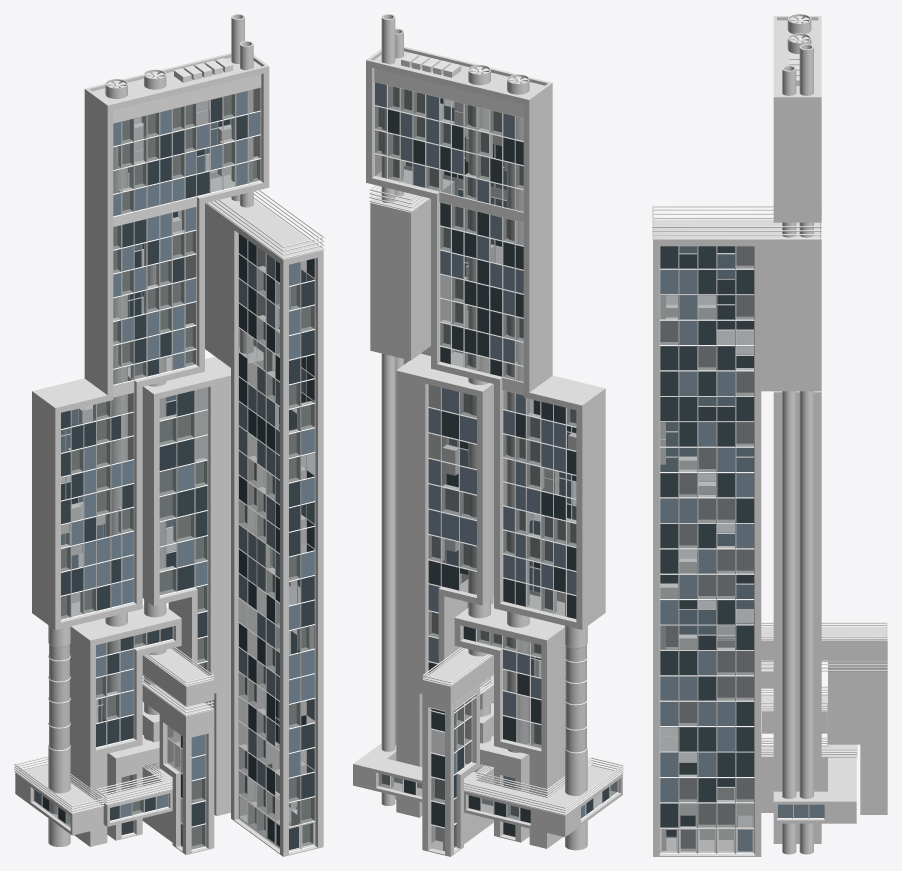
The model's file is building-6.glb.
3 renders of one model, left to right at view 1: azimuth 30°, elevation 25°; view 2: azimuth 150°, elevation 25°; view 3: azimuth 270°, elevation 25°, orthographic. The views are drawn at different scales.
Parts seen in each view (by area): view 1: Box02_01___Default_0_001_789, glass_glass_2_0_810, frame_Material__82838965_0_808, glass_glass_3_0_811, Object165_glass_88_0_822, glass_glass_0_812, Object196_wal_int_0_825, Object196_light_7698_0_824, Cylinder04_01___Default_0_001_799, Cylinder05_01___Default_0_801, Cylinder05_glass_0_802, Cylinder03_01___Default_0_001_797 (+7 smaller); view 2: Box02_01___Default_0_001_789, frame_Material__82838965_0_808, glass_glass_2_0_810, Object165_glass_88_0_822, glass_glass_3_0_811, glass_glass_0_812, Object196_wal_int_0_825, Cylinder02_01___Default_0_001_795, Object196_light_7698_0_824, Cylinder04_01___Default_0_001_799, Cylinder03_01___Default_0_001_797, Cylinder05_glass_0_802 (+7 smaller); view 3: Box02_01___Default_0_001_789, glass_glass_3_0_811, glass_glass_2_0_810, glass_glass_0_812, frame_Material__82838965_0_808, Object165_glass_88_0_822, Object196_light_7698_0_824, Cylinder02_01___Default_0_001_795, Cylinder01_01___Default_0_001_793, Object196_wal_int_0_825, Rectangle10_04___Default_0_001_845, Rectangle07_04___Default_0_001_839 (+2 smaller).
Boxes of the visible parts, x1,y1,x2,y2 form: Box02_01___Default_0_001_789: (15,53,323,856); glass_glass_2_0_810: (34,91,314,846); frame_Material__82838965_0_808: (33,74,315,852); glass_glass_3_0_811: (42,97,314,849); Object165_glass_88_0_822: (61,94,314,849); glass_glass_0_812: (50,88,314,826); Object196_wal_int_0_825: (61,94,314,849); Object196_light_7698_0_824: (61,95,310,845); Cylinder04_01___Default_0_001_799: (105,79,127,720); Cylinder05_01___Default_0_801: (48,625,70,846); Cylinder05_glass_0_802: (49,644,69,749); Cylinder03_01___Default_0_001_797: (144,69,166,769); Box02_01___Default_0_001_789: (353,46,622,856); frame_Material__82838965_0_808: (374,68,618,852); glass_glass_2_0_810: (375,82,585,818); Object165_glass_88_0_822: (375,85,617,847); glass_glass_3_0_811: (388,98,609,836); glass_glass_0_812: (375,98,600,850); Object196_wal_int_0_825: (375,85,617,850); Cylinder02_01___Default_0_001_795: (381,14,395,805); Object196_light_7698_0_824: (378,87,611,816); Cylinder04_01___Default_0_001_799: (507,74,529,752); Cylinder03_01___Default_0_001_797: (468,65,490,772); Cylinder05_glass_0_802: (565,645,586,752); Box02_01___Default_0_001_789: (653,16,887,856); glass_glass_3_0_811: (660,246,753,836); glass_glass_2_0_810: (660,246,823,851); glass_glass_0_812: (660,246,753,851); frame_Material__82838965_0_808: (659,246,824,853); Object165_glass_88_0_822: (660,246,753,851); Object196_light_7698_0_824: (660,246,753,848); Cylinder02_01___Default_0_001_795: (799,44,813,854); Cylinder01_01___Default_0_001_793: (782,65,796,854); Object196_wal_int_0_825: (660,265,753,851); Rectangle10_04___Default_0_001_845: (652,206,821,227); Rectangle07_04___Default_0_001_839: (652,217,821,239).
Size of the model in its own units: 10 by 34.64 by 9.2.
